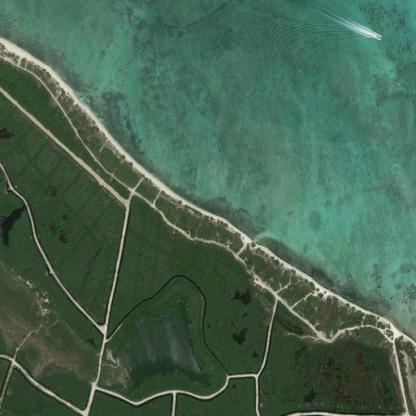ship: (368, 25, 388, 47)
